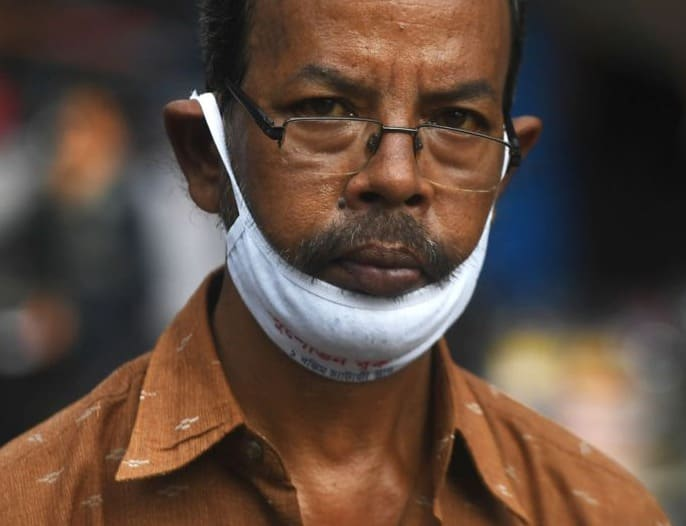with_incorrect_mask: (214, 14, 507, 379)
